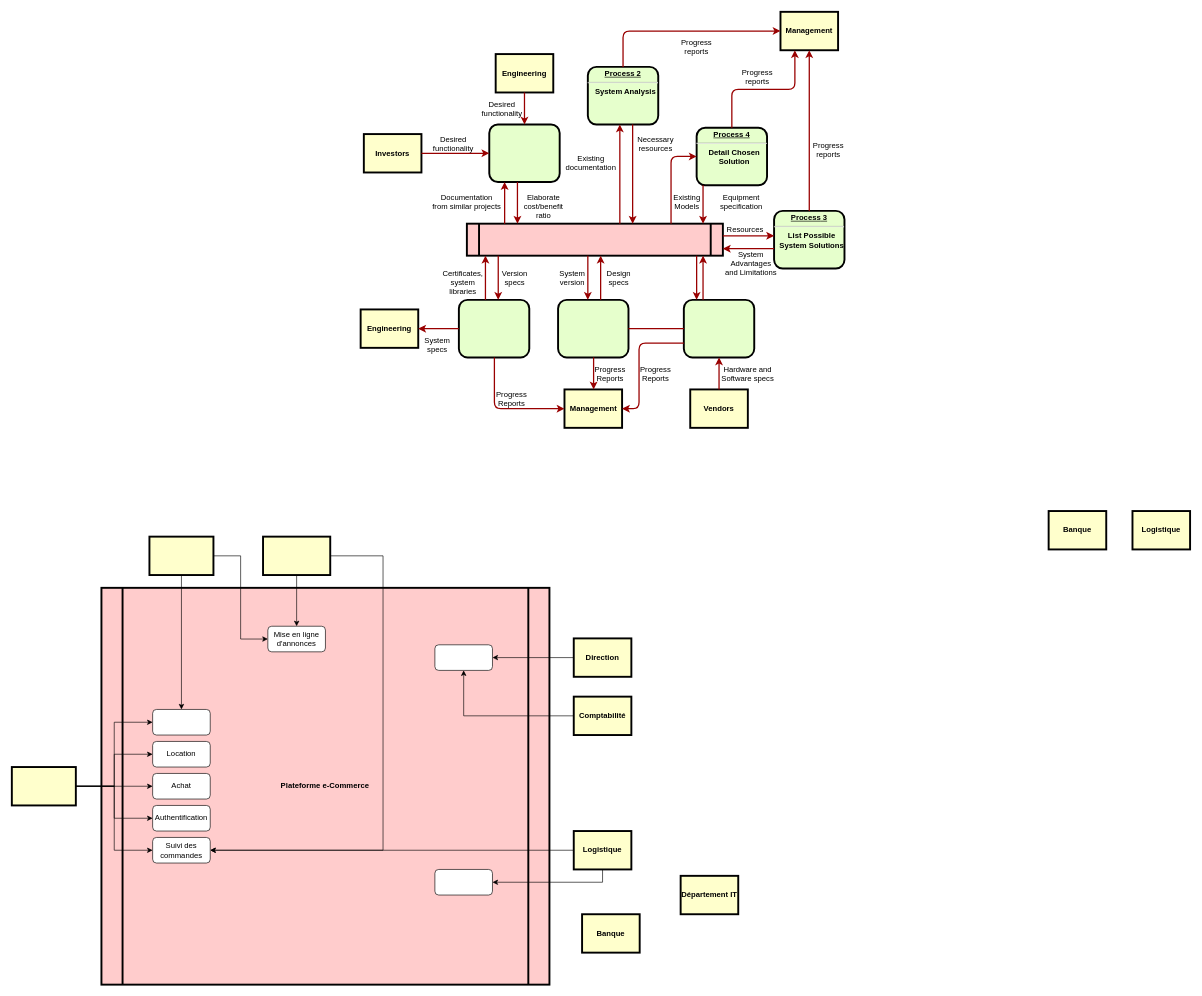
This 1202x996 diagram has some shape labels left out. The shapes that lost their labels are listed below. From the top down, each one's centre as x and y in pixels, then its label:
the point at 524,153: Process 1 System Study Preparation
the point at 595,239: ON-DEMAND SYSTEM DEVELOPMENT
the point at 494,328: Process 6 New System Construction
the point at 593,328: Process 7 New System Startup and Testing
the point at 719,328: Process 5 New System Design
the point at 181,555: Communication
the point at 296,555: Vente/ Commerce
the point at 463,657: Dashboard
the point at 181,722: Newsletter
the point at 43,786: Clientèle
the point at 463,882: Gestion des stocks
